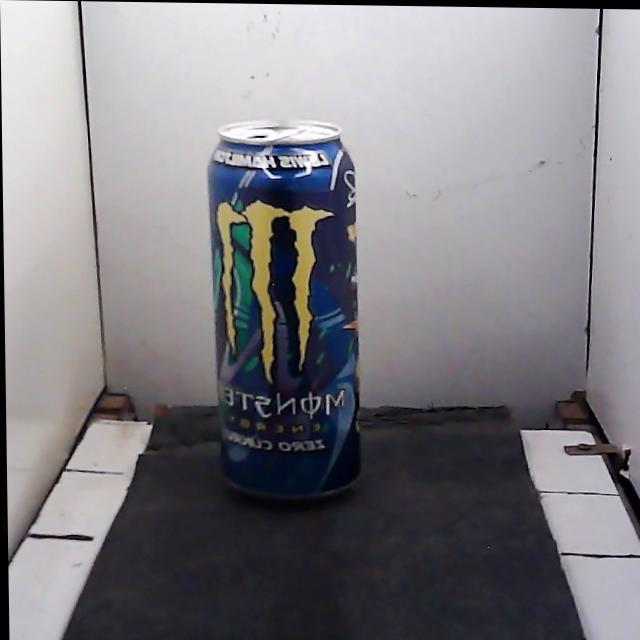metal: (208, 120, 360, 499)
